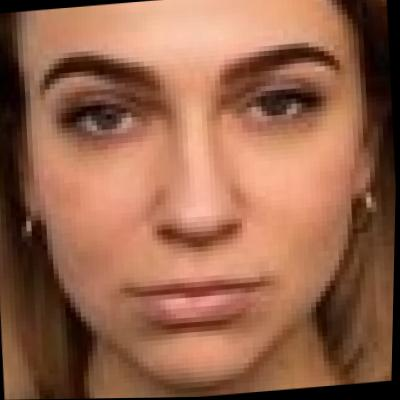netural: (17, 0, 376, 367)
